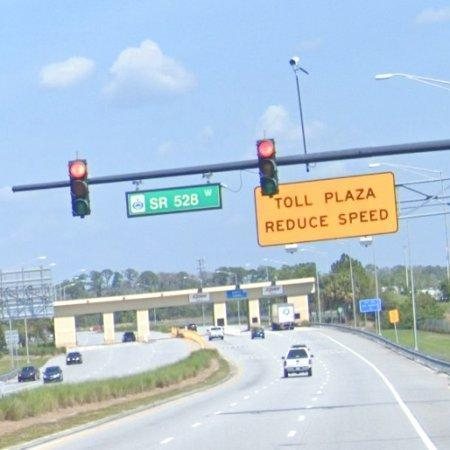traffic lights: (68, 158, 90, 220), (256, 138, 279, 197)
